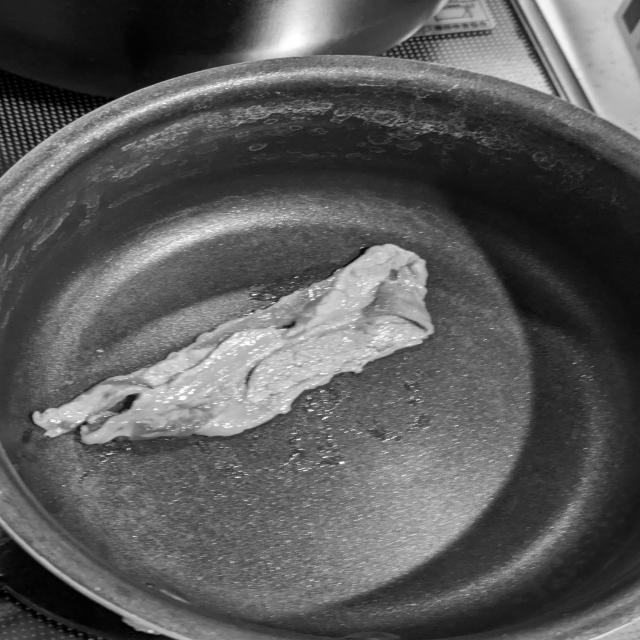NG undercooked beef,: (26, 235, 449, 450)
